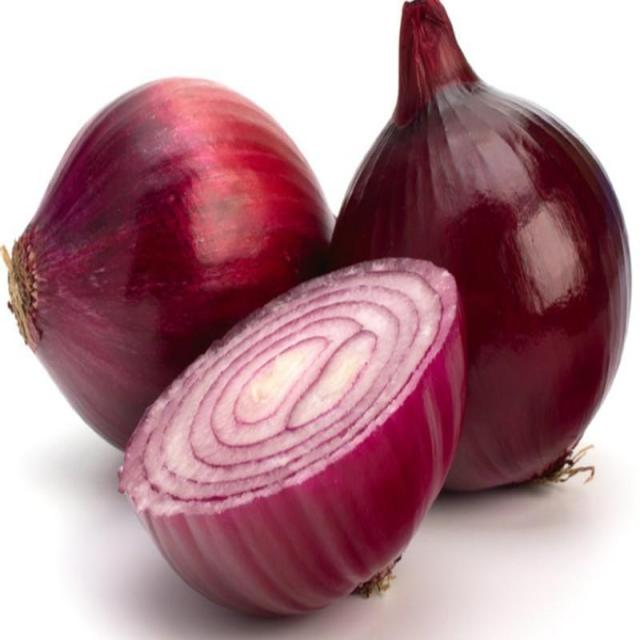Onion: (334, 0, 634, 496), (119, 256, 472, 623), (2, 78, 340, 451)
